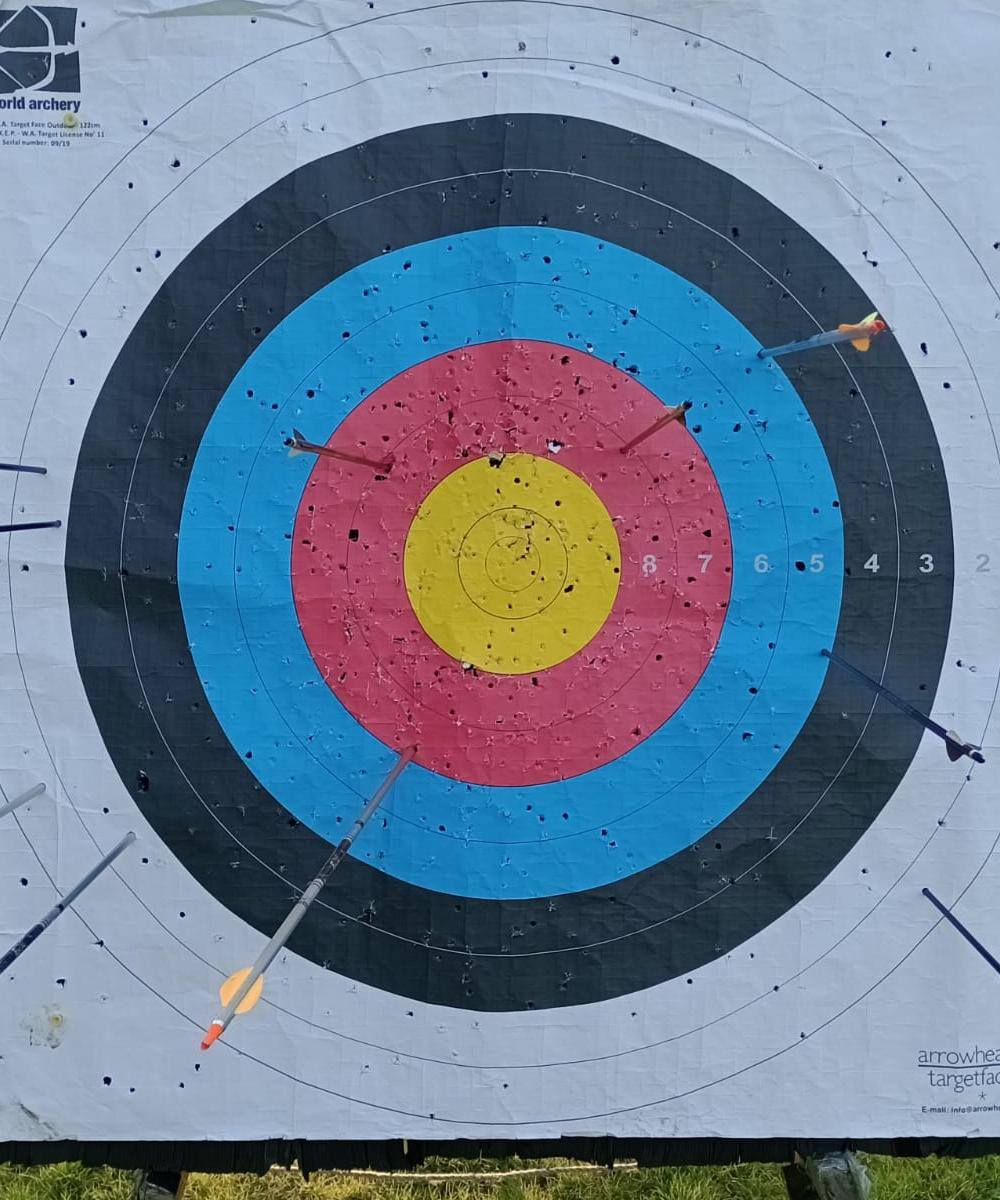1-Ring: (0, 7, 1000, 1122)
10-Ring: (457, 505, 569, 623)
2-Ring: (7, 63, 1000, 1068)
3-Ring: (54, 106, 964, 1023)
4-Ring: (127, 171, 899, 954)
5-Ring: (181, 230, 844, 899)
6-Ring: (237, 285, 786, 842)
7-Ring: (292, 344, 732, 787)
8-Ring: (277, 330, 746, 799)
9-Ring: (359, 411, 667, 720)
Arrow: (184, 743, 434, 1059), (814, 642, 989, 777), (0, 831, 136, 974), (758, 311, 887, 366), (281, 427, 393, 473), (614, 397, 699, 452), (0, 782, 47, 819), (0, 520, 59, 532), (0, 463, 46, 474)
